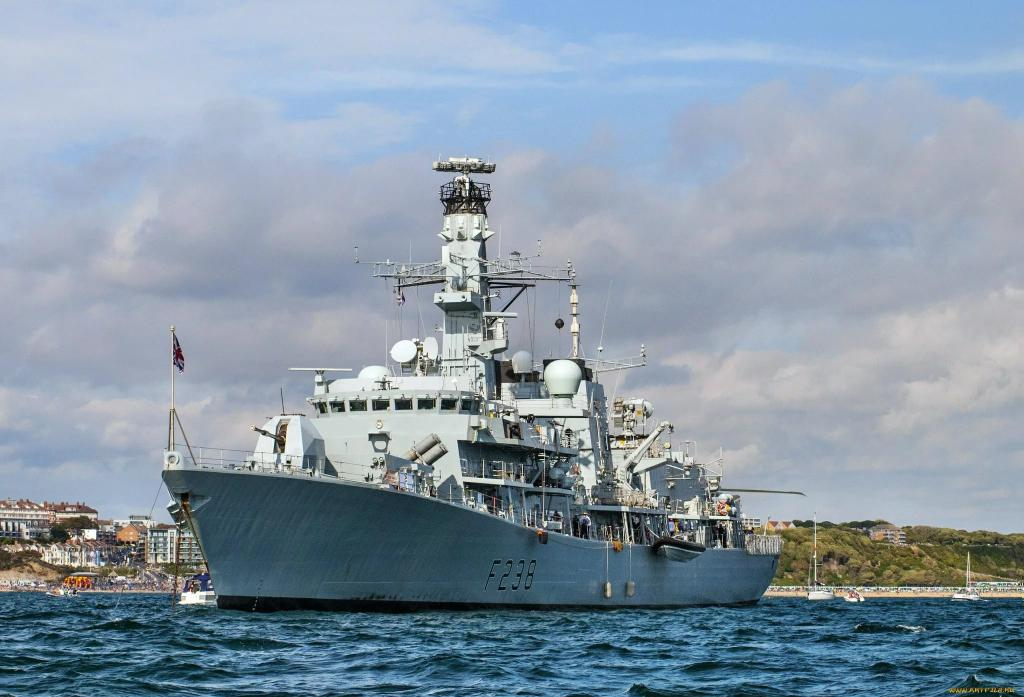Warship: (152, 146, 788, 622)
